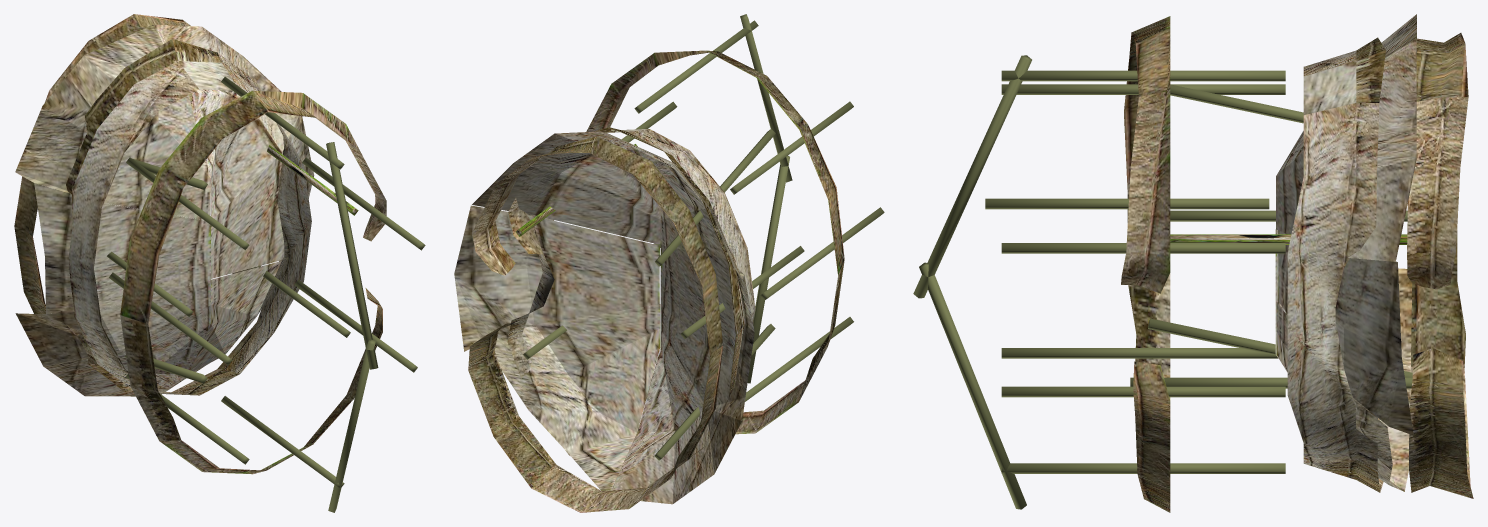
Rendered from hut_000012.obj.
3 views of the same model, side by side, from view 1: azimuth 30°, elevation 25°; view 2: azimuth 150°, elevation 25°; view 3: azimuth 270°, elevation 25° (orthographic). The views are drawn at different scales.
Visible parts, largest first — view 1: Sphere.003, Sphere.002, Sphere.004, Sphere.007, Sphere.008, Sphere.006, Sphere.005, Sphere, Sphere.001, Cylinder.009, Cylinder.007, Cylinder (+10 smaller); view 2: Sphere, Sphere.001, Sphere.005, Sphere.008, Sphere.006, Sphere.003, Sphere.002, Sphere.007, Sphere.004, Cylinder.007, Cylinder.009, Cylinder.001 (+6 smaller); view 3: Sphere.003, Sphere.001, Sphere.002, Sphere.005, Sphere.006, Cylinder.007, Cylinder.009, Cylinder.003, Cylinder.001, Cylinder.002, Cylinder.006, Cylinder (+10 smaller).
Boxes of the visible parts, x1,y1,x2,y2 form: Sphere.003: [66, 39, 311, 395]; Sphere.002: [120, 90, 386, 474]; Sphere.004: [15, 25, 210, 220]; Sphere.007: [34, 183, 210, 314]; Sphere.008: [15, 280, 211, 396]; Sphere.006: [154, 24, 298, 218]; Sphere.005: [211, 116, 314, 278]; Sphere: [166, 259, 285, 391]; Sphere.001: [14, 14, 251, 314]; Cylinder.009: [326, 142, 378, 369]; Cylinder.007: [328, 339, 375, 512]; Cylinder: [221, 396, 344, 488]; Sphere: [494, 304, 660, 490]; Sphere.001: [468, 136, 722, 512]; Sphere.005: [454, 205, 659, 351]; Sphere.008: [611, 304, 745, 504]; Sphere.006: [472, 131, 660, 244]; Sphere.003: [507, 127, 755, 480]; Sphere.002: [586, 50, 844, 434]; Sphere.007: [660, 245, 754, 396]; Sphere.004: [605, 132, 743, 279]; Cylinder.007: [747, 156, 789, 383]; Cylinder.009: [740, 14, 792, 182]; Cylinder.001: [634, 20, 758, 113]; Sphere.003: [1287, 37, 1385, 492]; Sphere.001: [1407, 33, 1473, 498]; Sphere.002: [1121, 16, 1170, 512]; Sphere.005: [1278, 230, 1413, 435]; Sphere.006: [1276, 38, 1416, 261]; Cylinder.007: [919, 262, 1026, 509]; Cylinder.009: [913, 55, 1031, 298]; Cylinder.003: [1001, 386, 1285, 397]; Cylinder.001: [1001, 70, 1285, 81]; Cylinder.002: [985, 198, 1269, 209]; Cylinder.006: [1001, 348, 1278, 358]; Cylinder: [1001, 463, 1285, 473].
Bounding box in the file's own units: 3.9 × 4.88 × 5.26.
